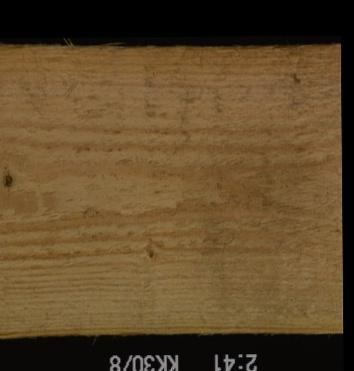small_knot: (280, 67, 305, 90), (140, 245, 159, 265)
